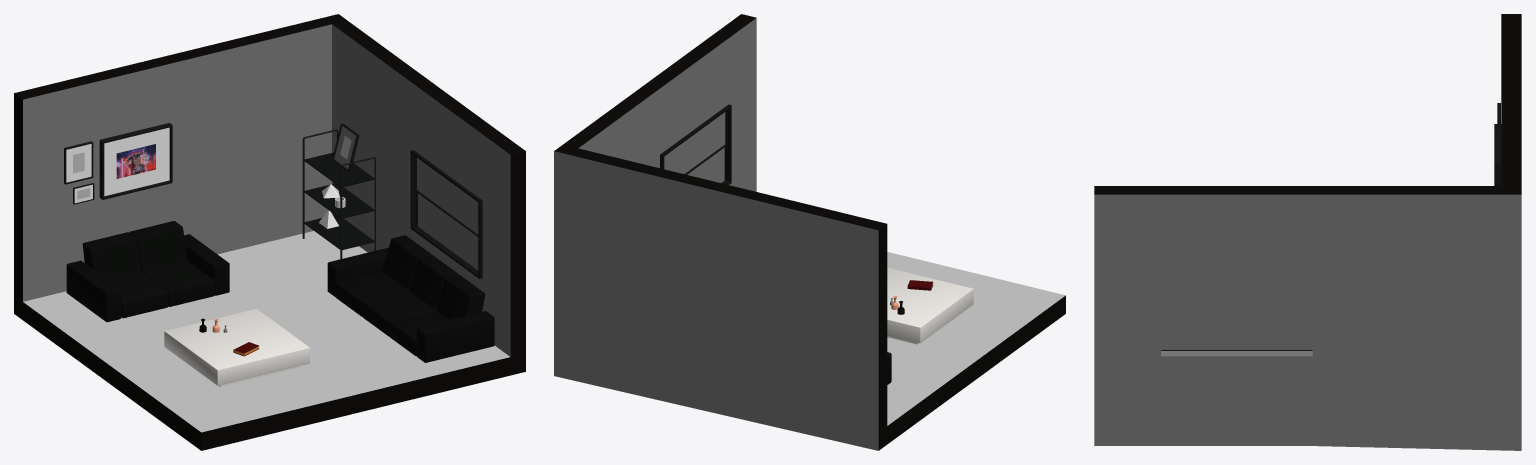
File: izoScetch.fbx
3 views of the same model, side by side, from view 1: azimuth 30°, elevation 25°; view 2: azimuth 150°, elevation 25°; view 3: azimuth 270°, elevation 25° (orthographic). The views are drawn at different scales.
Visible parts, largest first — view 1: Wall, Table, Box004, Box014, Box016, Box010, Box011, Box009, Box008, Box017, Box012, Box015 (+6 smaller); view 2: Wall, Table; view 3: Wall, Box004.
Part boxes in pixels (x1,y1,x2,y2): Wall: (14, 14, 525, 450); Table: (164, 309, 309, 386); Box004: (99, 123, 172, 199); Box014: (129, 221, 214, 306); Box016: (82, 232, 168, 318); Box010: (362, 255, 458, 336); Box011: (336, 235, 431, 316); Box009: (416, 311, 494, 362); Box008: (389, 274, 485, 356); Box017: (66, 260, 121, 322); Box012: (327, 247, 388, 297); Box015: (184, 234, 229, 295); Wall: (554, 14, 1065, 450); Table: (887, 267, 973, 344); Wall: (1094, 14, 1521, 450); Box004: (1494, 124, 1501, 185).
Size of the model in its own units: 420 by 420 by 278.
